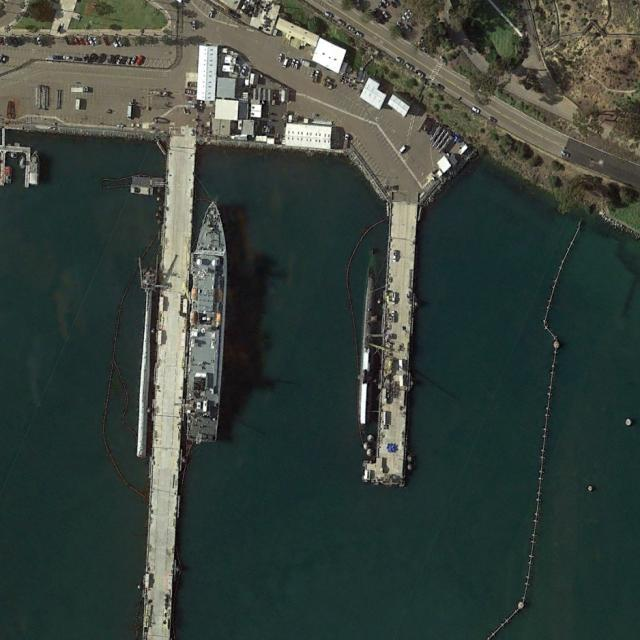Other Ship: (179, 195, 233, 447)
Submarine: (357, 269, 377, 425)
